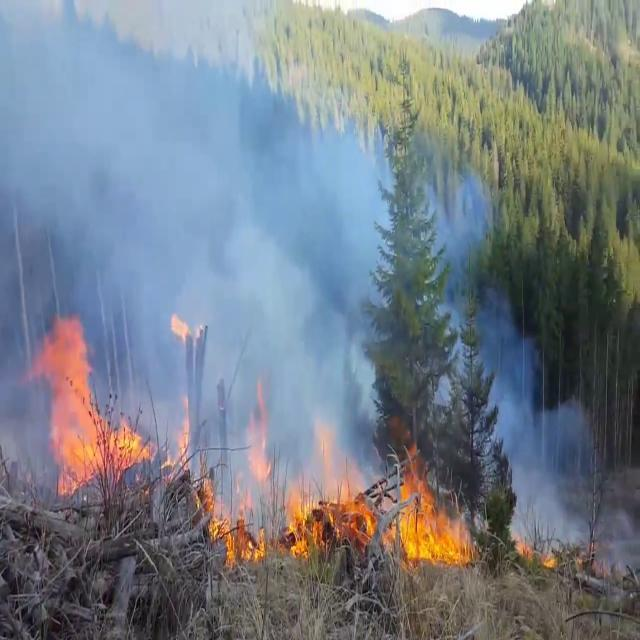Fire: (202, 381, 372, 564), (33, 304, 146, 490), (386, 458, 474, 572)
Smoke: (1, 1, 392, 523), (482, 280, 586, 560)
